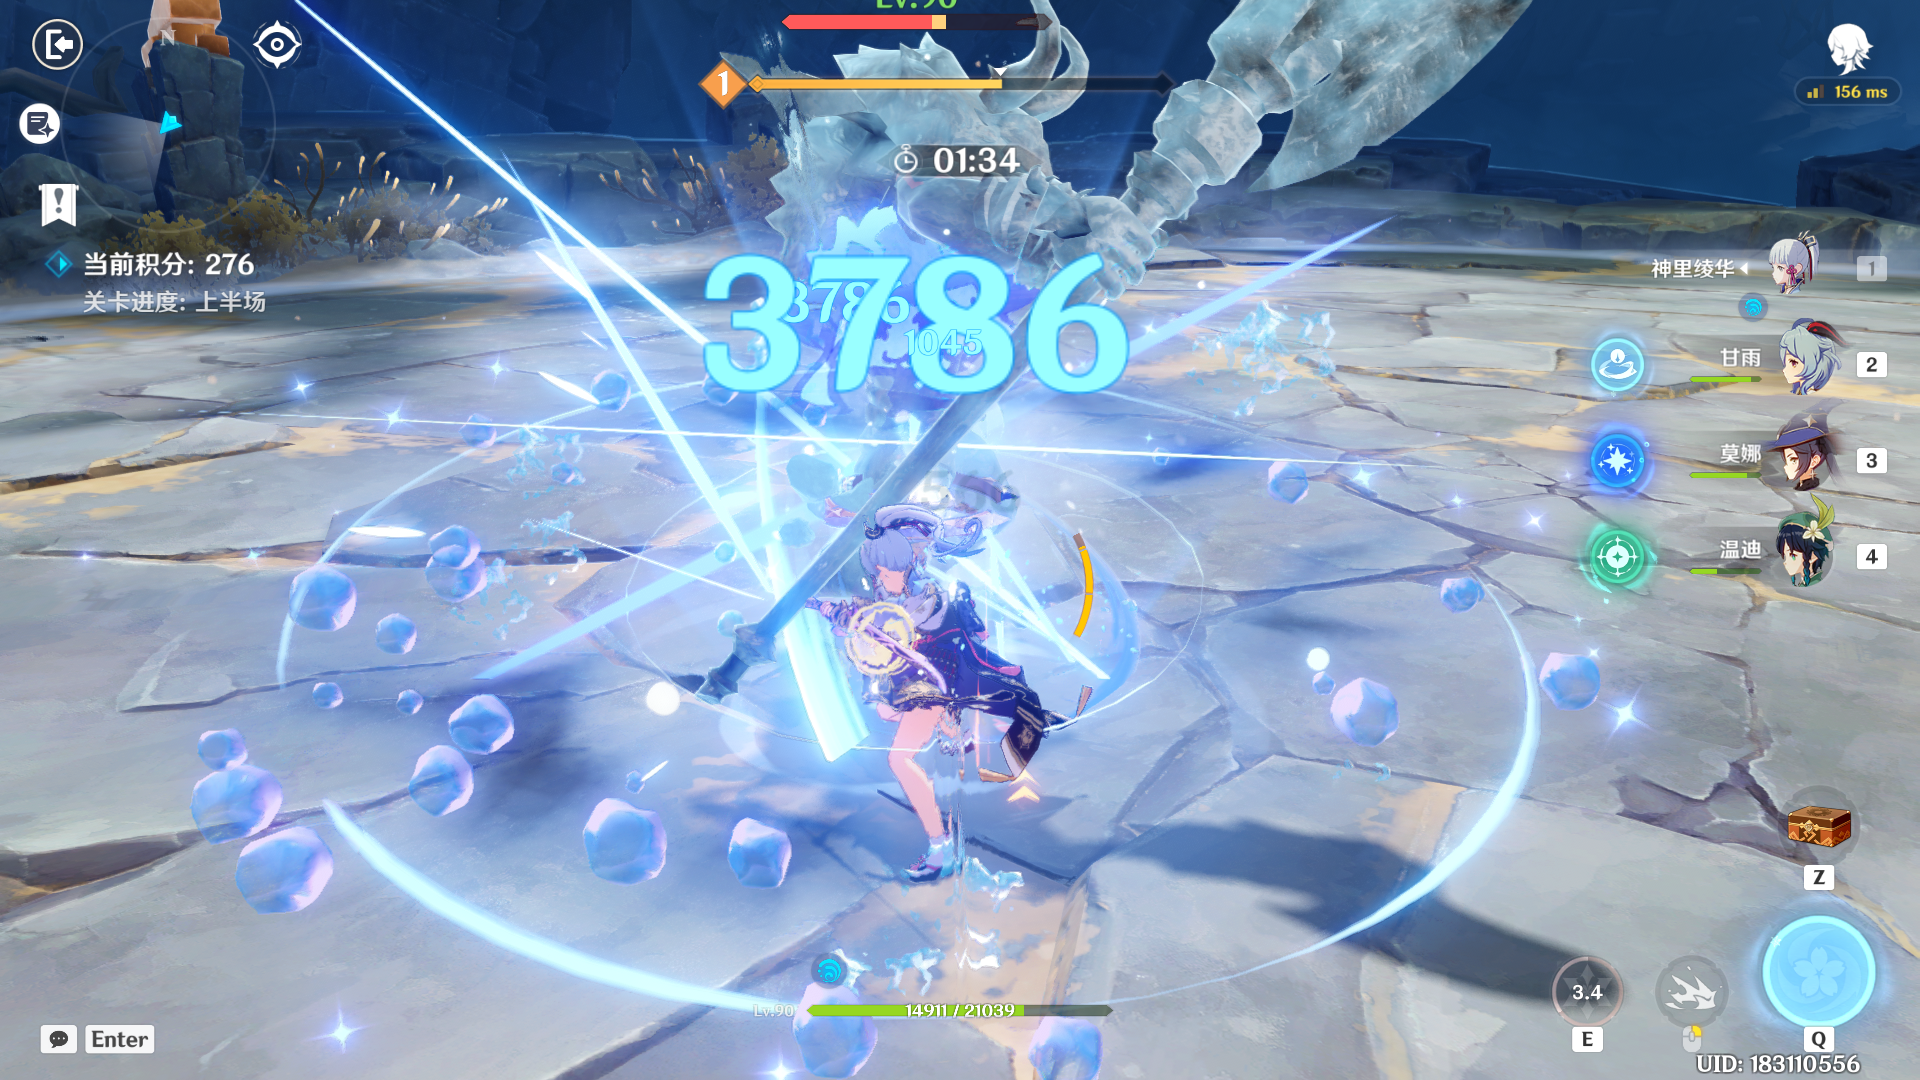character: (802, 498, 1083, 916)
